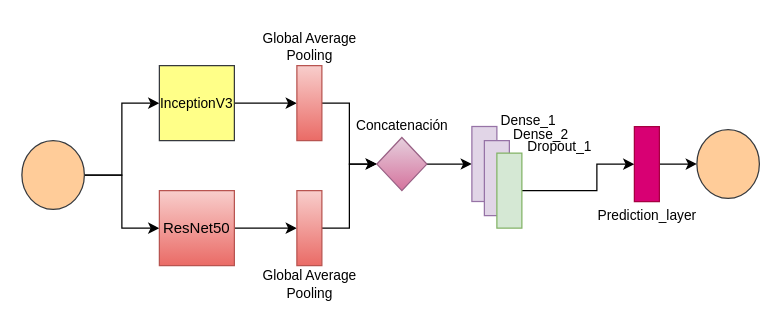
The diagram is 781 pixels wide and 330 high, and some of its shapes have lost their labels. Each missing label, with the centre of its shape:
"Input" goes at pixel 52 174.
"Output" goes at pixel 727 163.
